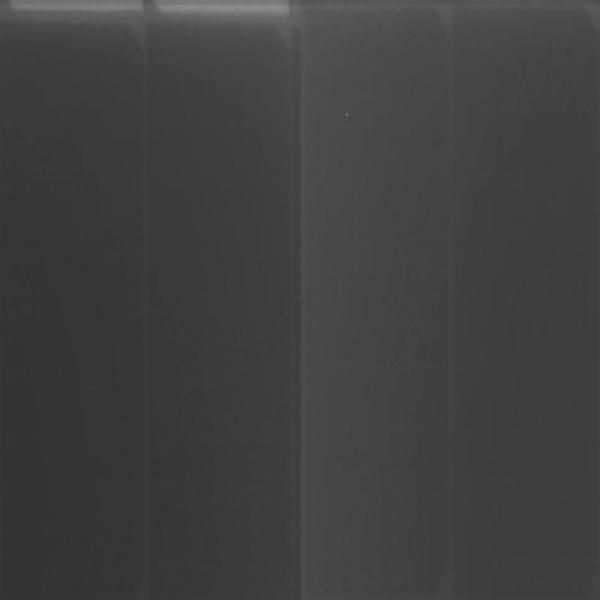no_electricity: (1, 4, 600, 600)
